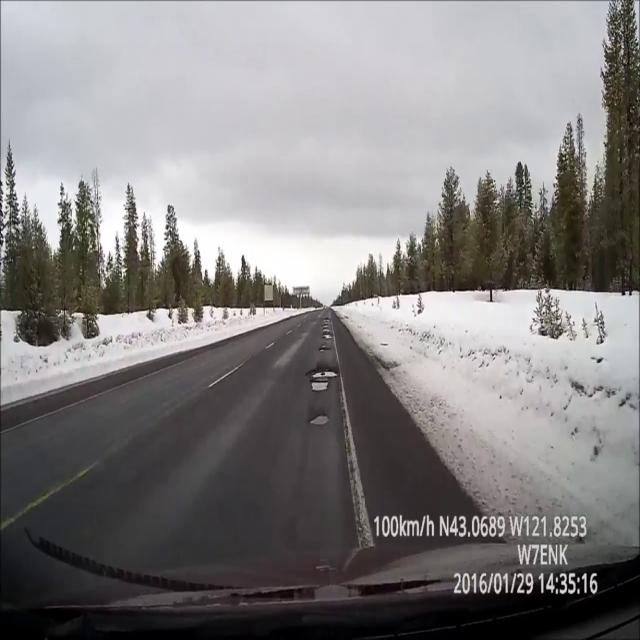Pothole: (305, 368, 338, 379), (308, 414, 330, 426), (312, 380, 328, 391), (318, 344, 331, 352), (323, 333, 332, 340), (322, 327, 329, 332), (322, 318, 329, 321), (323, 324, 328, 326)
